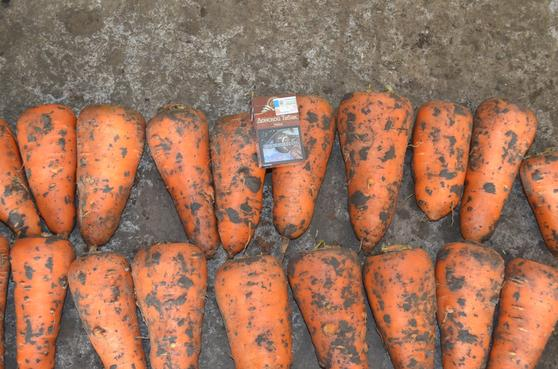carrot: (337, 88, 412, 246), (75, 99, 146, 245)
